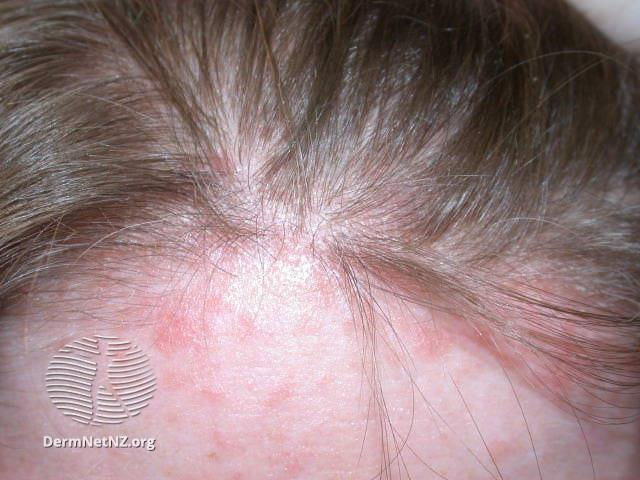Psoriasis: (3, 45, 640, 467)
